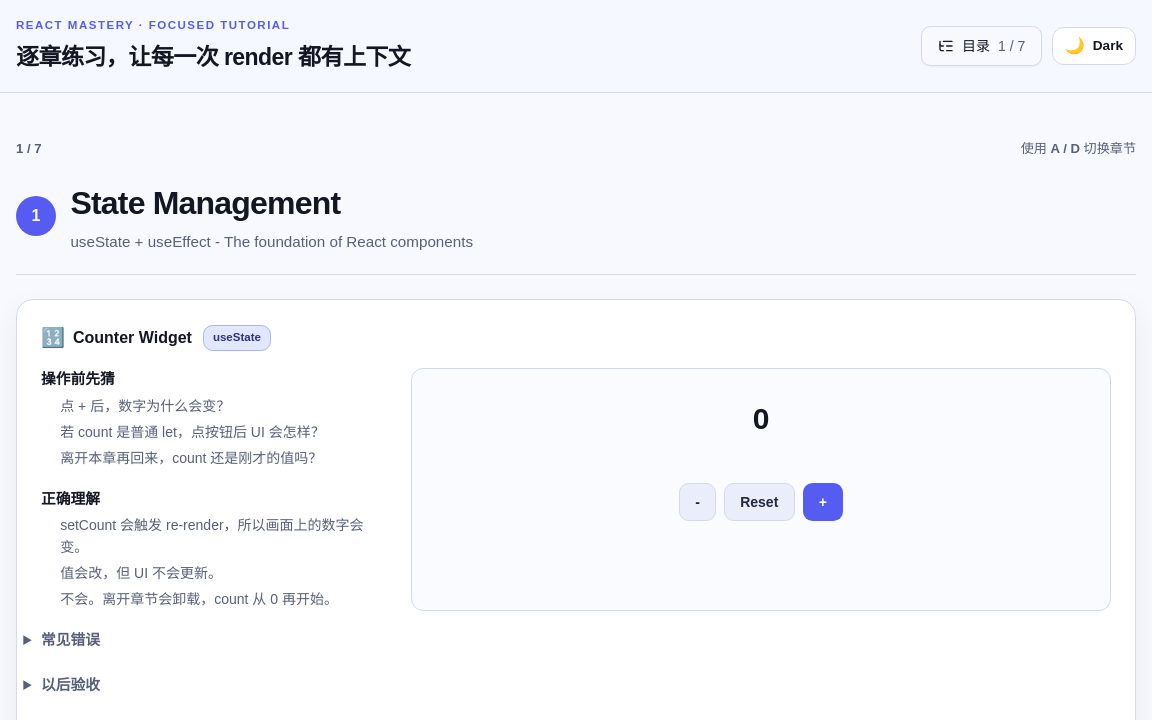
Test: React tutorial workspace › opens the chapter directory, selects a chapter, and returns focus to its heading
Click the button with aria-label "open chapter directory": (982, 46) 921,26 -> 1042,66
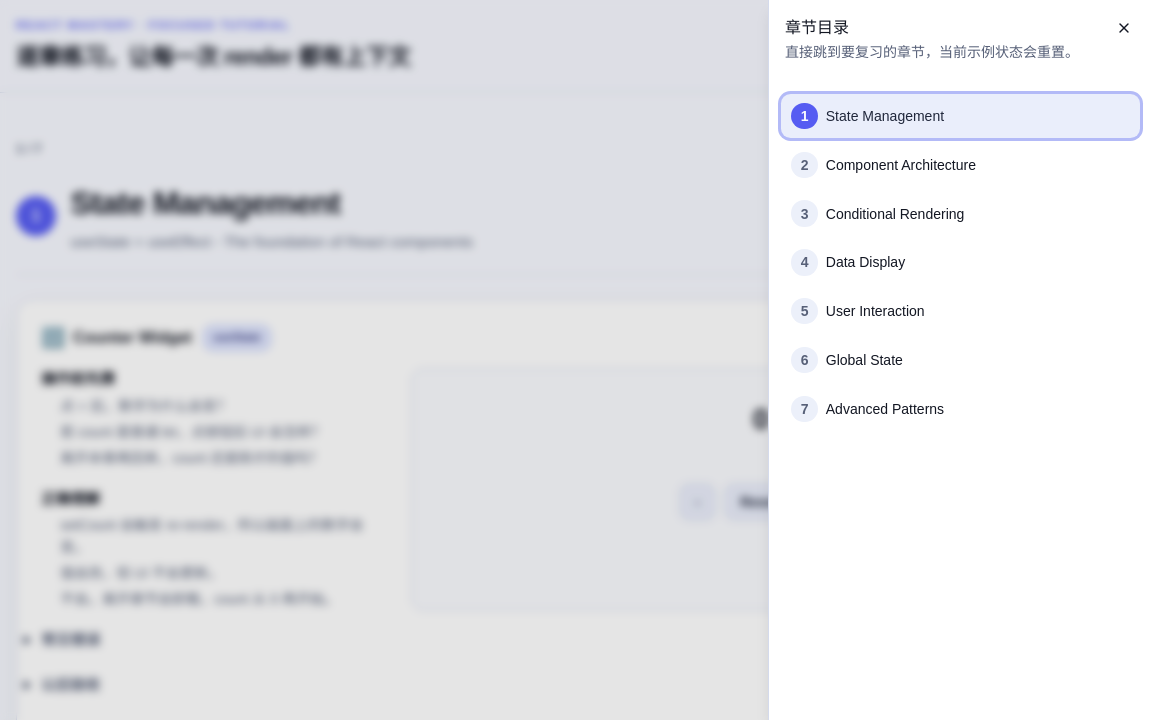
Expected: the dialog "章节目录" is shown, 768,0 -> 1151,719
Click the button with aria-label "4. Data Display": (865, 262) 781,240 -> 1140,284
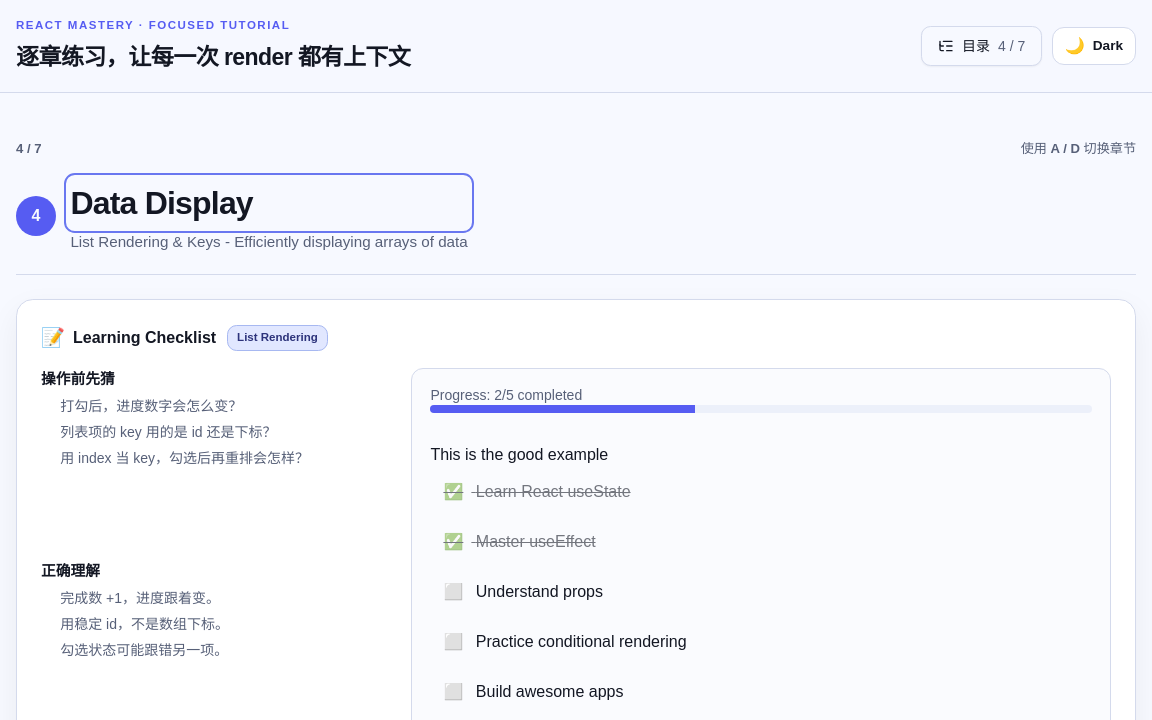
Expected: the heading "章节目录" is gone
